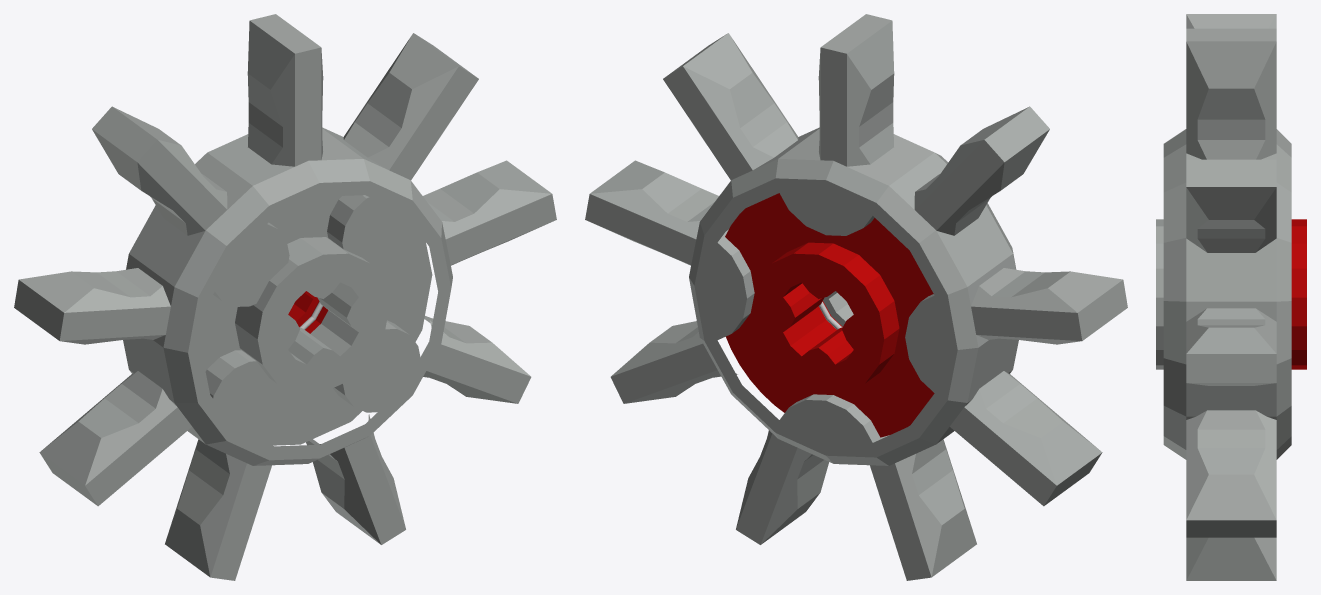
3 renders of one model, left to right at view 1: azimuth 30°, elevation 25°; view 2: azimuth 150°, elevation 25°; view 3: azimuth 270°, elevation 25°, orthographic.
Parts seen in each view (by area): view 1: world; view 2: world; view 3: world.
Boxes of the visible parts, x1,y1,x2,y2 form: world: [14, 14, 556, 580]; world: [585, 14, 1127, 580]; world: [1156, 14, 1306, 580].
Bounding box in the file's own units: 0.0302 × 0.0298 × 0.008.
